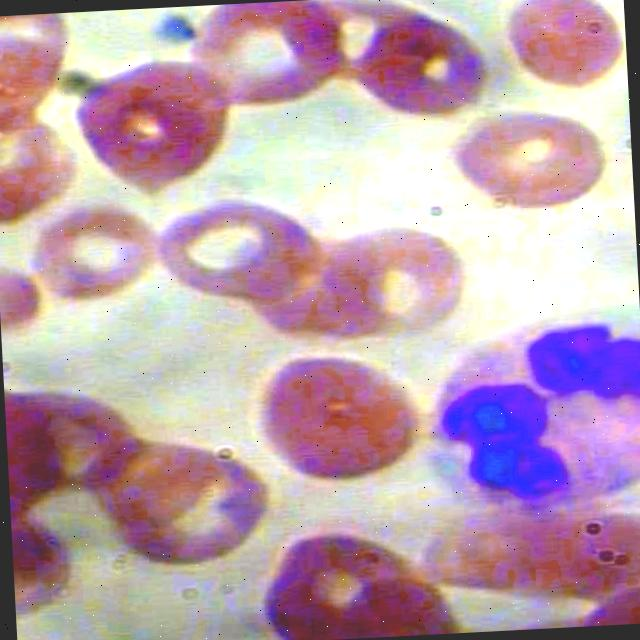Platelets: (151, 10, 199, 52)
RBC: (232, 345, 435, 495), (61, 44, 231, 198), (93, 438, 267, 574), (254, 519, 441, 640), (146, 190, 324, 312), (302, 220, 480, 342), (442, 102, 614, 214), (174, 0, 345, 111), (26, 202, 168, 310), (467, 0, 628, 95)
WBC: (402, 297, 640, 533)
